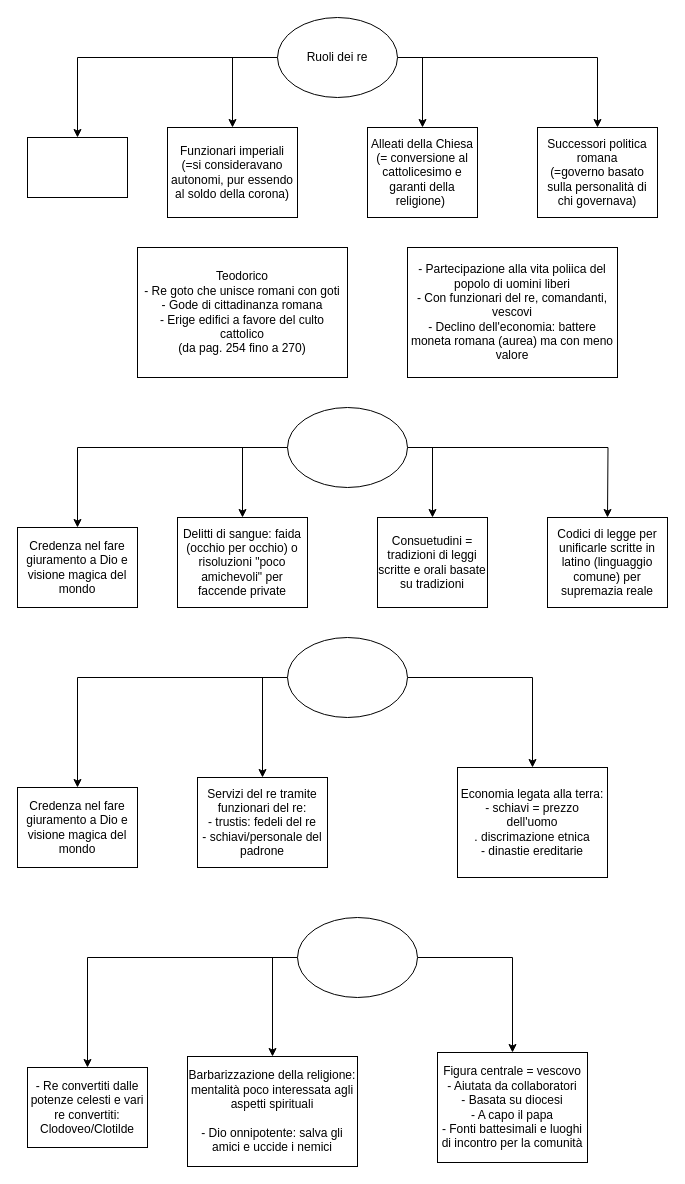
This 685x1184 diagram has some shape labels left out. Each missing label, with the box of its shape:
Capi guerrieri e aura di sacralità (= esseri divini): (26, 136, 128, 198)
Integrazione leggi romano-barbare: (286, 406, 408, 488)
Legami sociali: (286, 636, 408, 718)
Re cattolici e vescovi: (296, 916, 418, 998)
